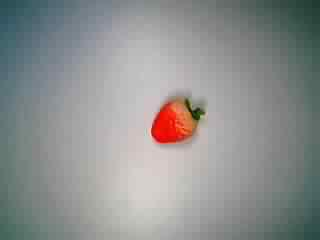strawberry: (144, 91, 212, 155)
